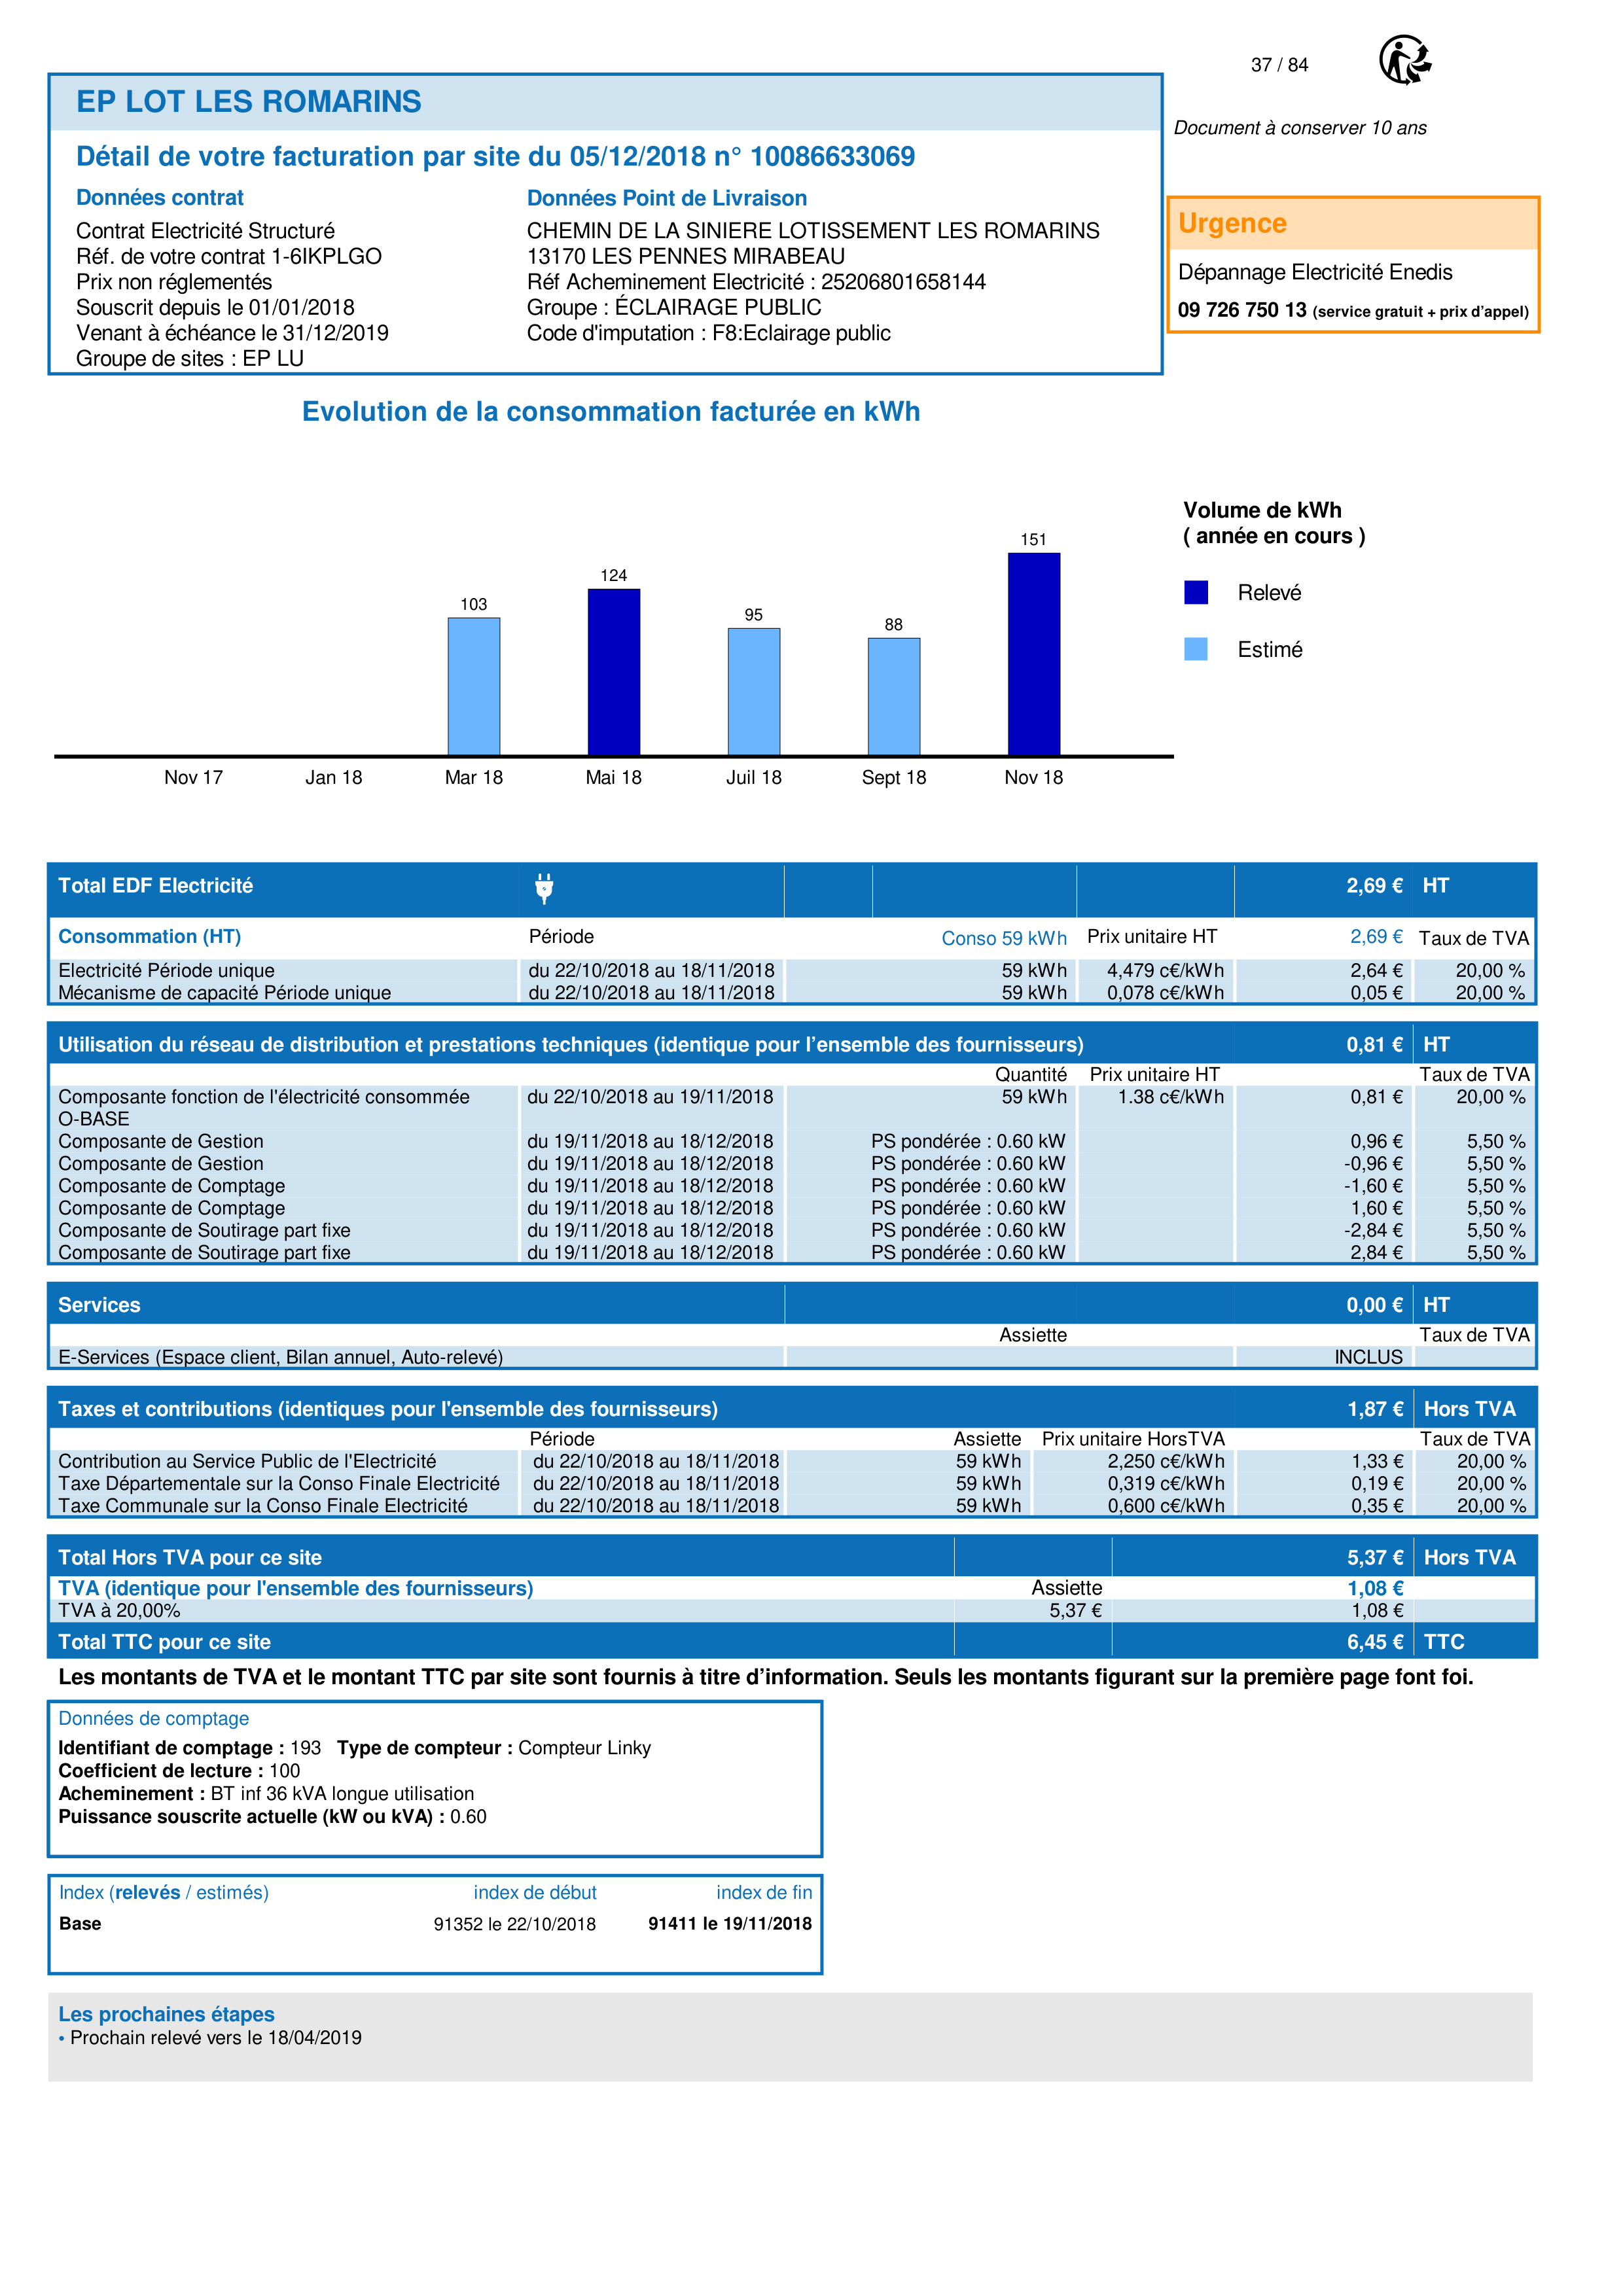area: (46, 1873, 821, 1971)
type_indicator: (48, 1874, 278, 1909)
